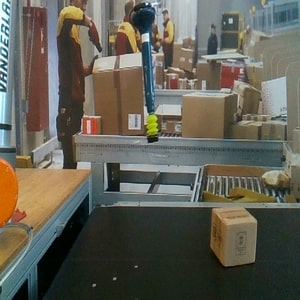box: (209, 205, 258, 268)
